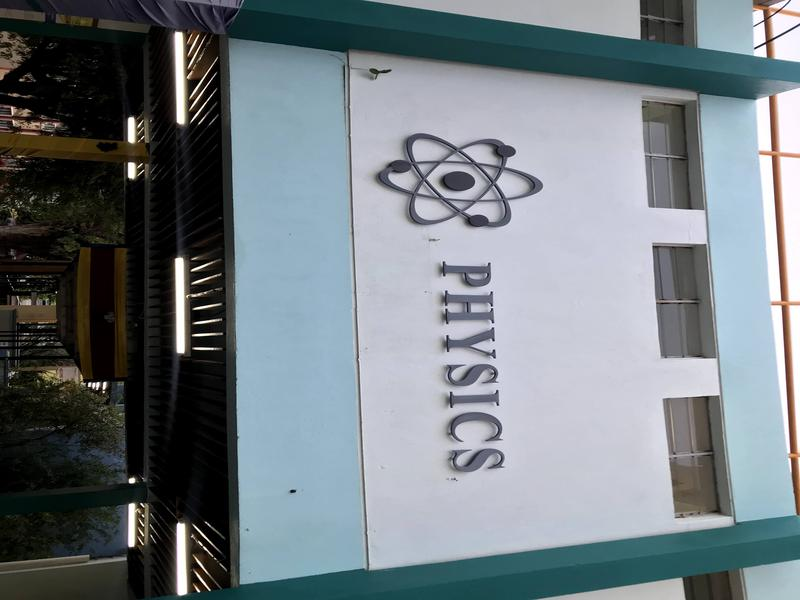18.0053657_-76.7491452_physicssign: (355, 119, 583, 497)
